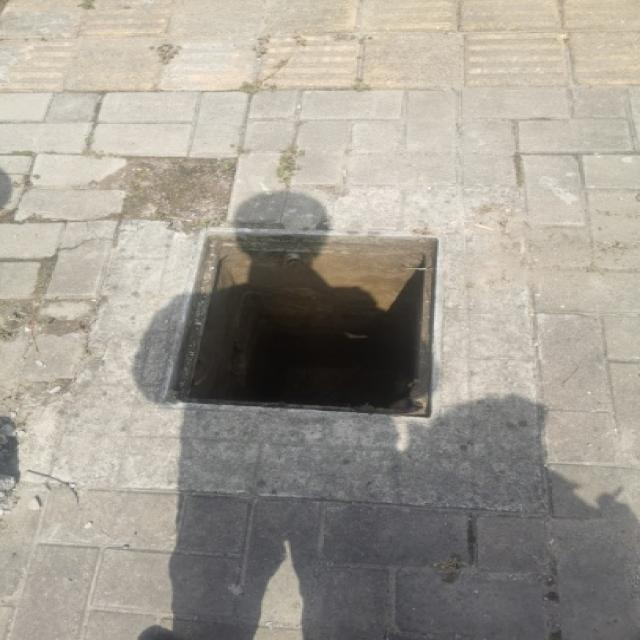Uncovered: (142, 216, 476, 444)
